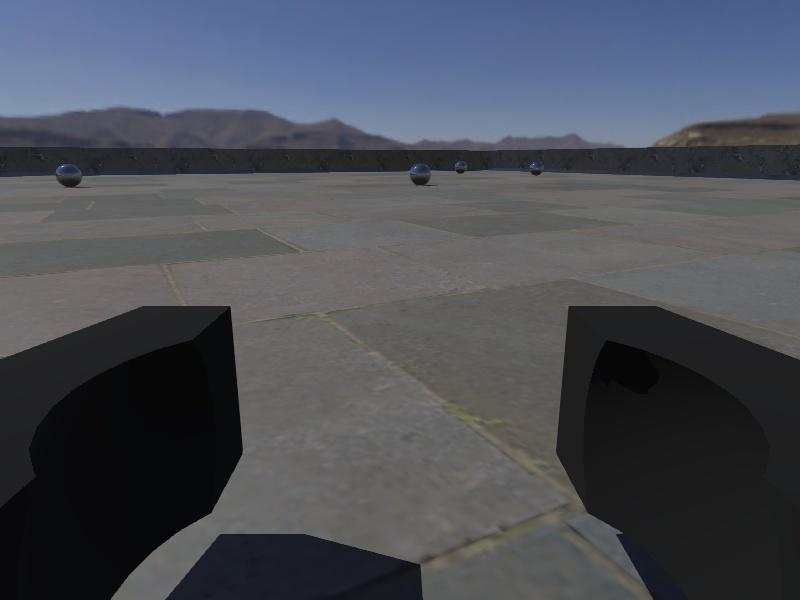steel ball: (55, 163, 84, 188), (408, 162, 433, 186), (528, 159, 545, 175), (452, 159, 468, 174)
